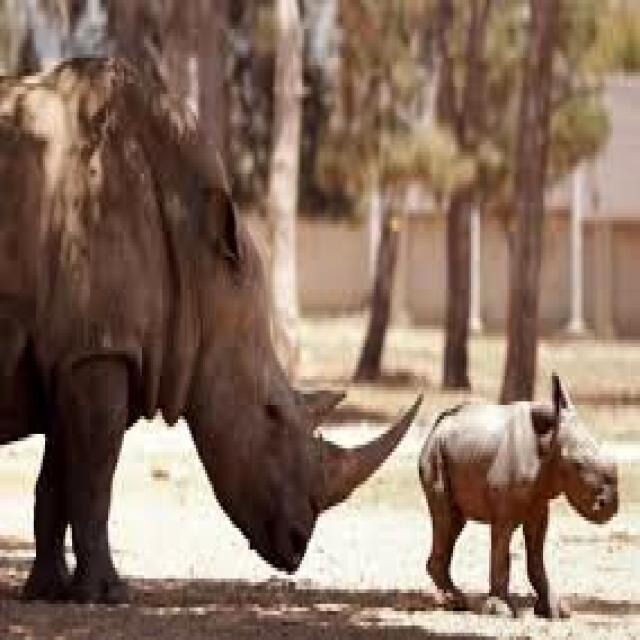rhinoceros: (0, 43, 417, 597), (417, 372, 615, 615)
